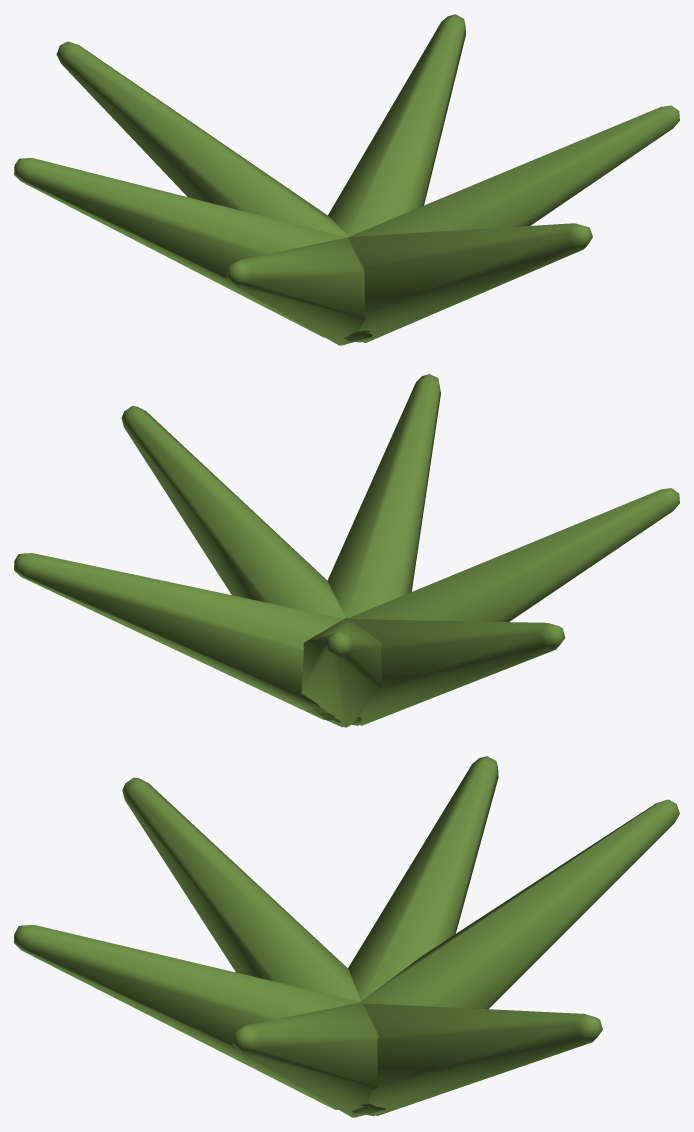
The model's file is prop_fern4_6f20.glb.
The picture shows the model from 3 angles, top to bottom: view 1: azimuth 30°, elevation 25°; view 2: azimuth 150°, elevation 25°; view 3: azimuth 270°, elevation 25°; orthographic projection. The views are drawn at different scales.
Parts seen in each view (by area): view 1: prop_fern4_6f20; view 2: prop_fern4_6f20; view 3: prop_fern4_6f20.
Part boxes in pixels (box(x1,y1,x2,y2)): prop_fern4_6f20: box(14, 14, 679, 345); prop_fern4_6f20: box(14, 374, 679, 727); prop_fern4_6f20: box(14, 756, 679, 1117).
Size of the model in its own units: 0.6058 by 0.237 by 0.595.
Materials: 1 (1 with a texture image).
